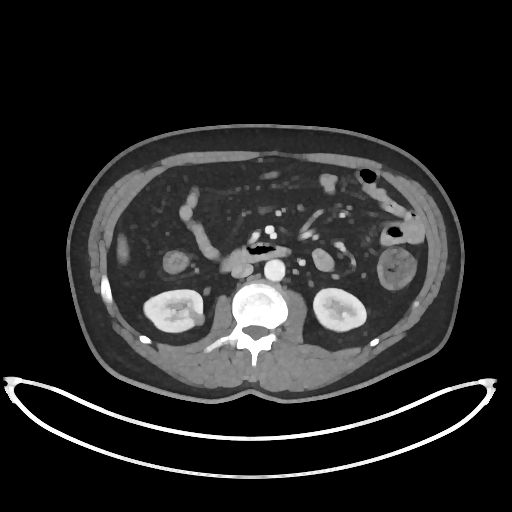Lesion: (188, 302, 208, 329)
